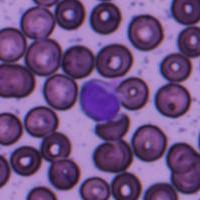L: (78, 78, 121, 123)
